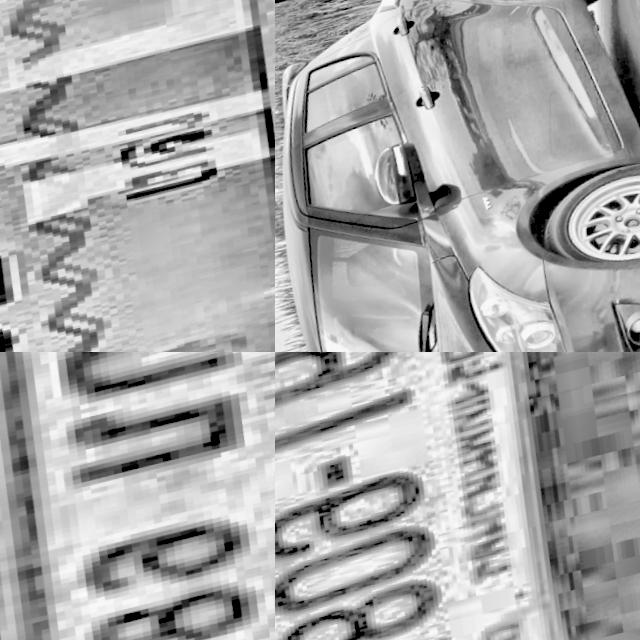license-plate: (275, 352, 613, 640), (0, 0, 275, 352), (0, 352, 275, 640)
